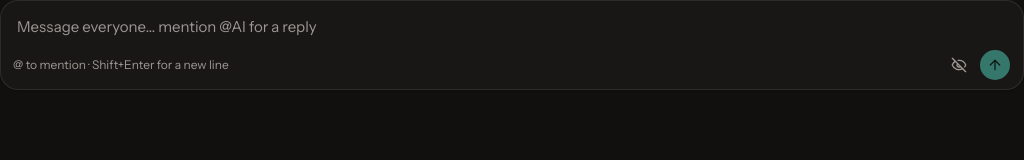
Test: Composer mentions › off the record: a toggle, reset after sending
The image size is (1024, 160).
Click the button named "Off the record": (959, 65) top-left (943, 49), bottom-right (975, 81)
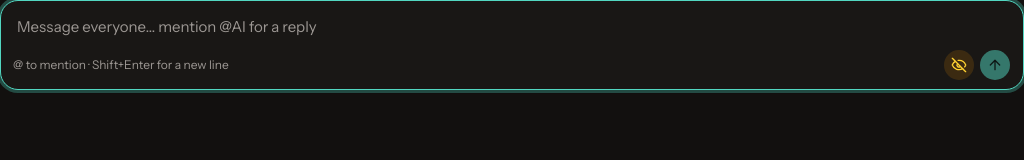
expect the button named "Off the record" is pressed: met, box top-left (943, 49), bottom-right (975, 81)
In the text box labelled "Message": (512, 27) top-left (9, 9), bottom-right (1015, 45), type "door code 4321"
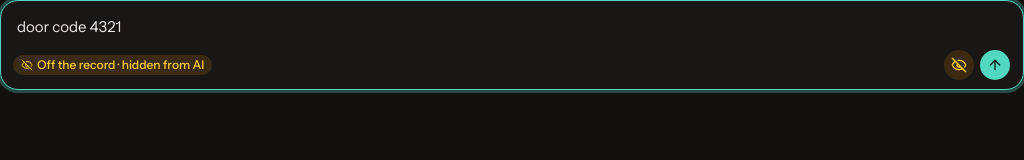
Press Enter in the text box named "Message", box top-left (9, 9), bottom-right (1015, 45)
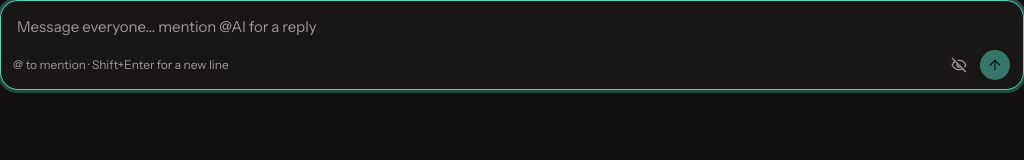
expect the button named "Off the record" is not pressed: met, box top-left (943, 49), bottom-right (975, 81)
